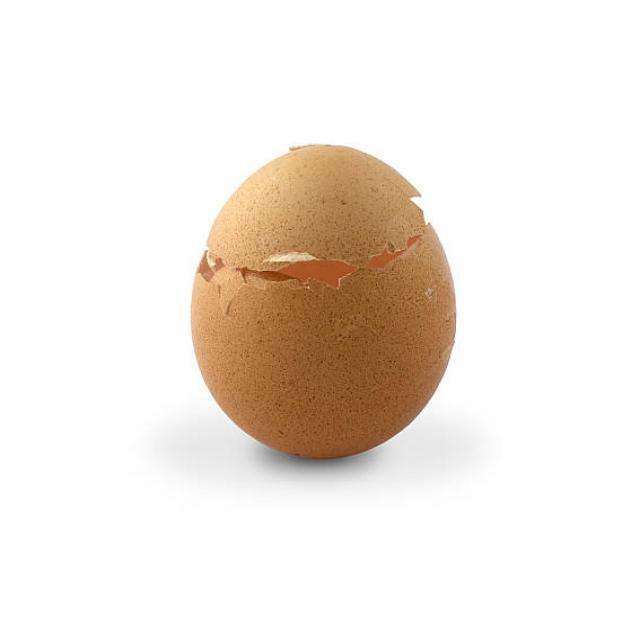biodegradable: (189, 140, 461, 460)
